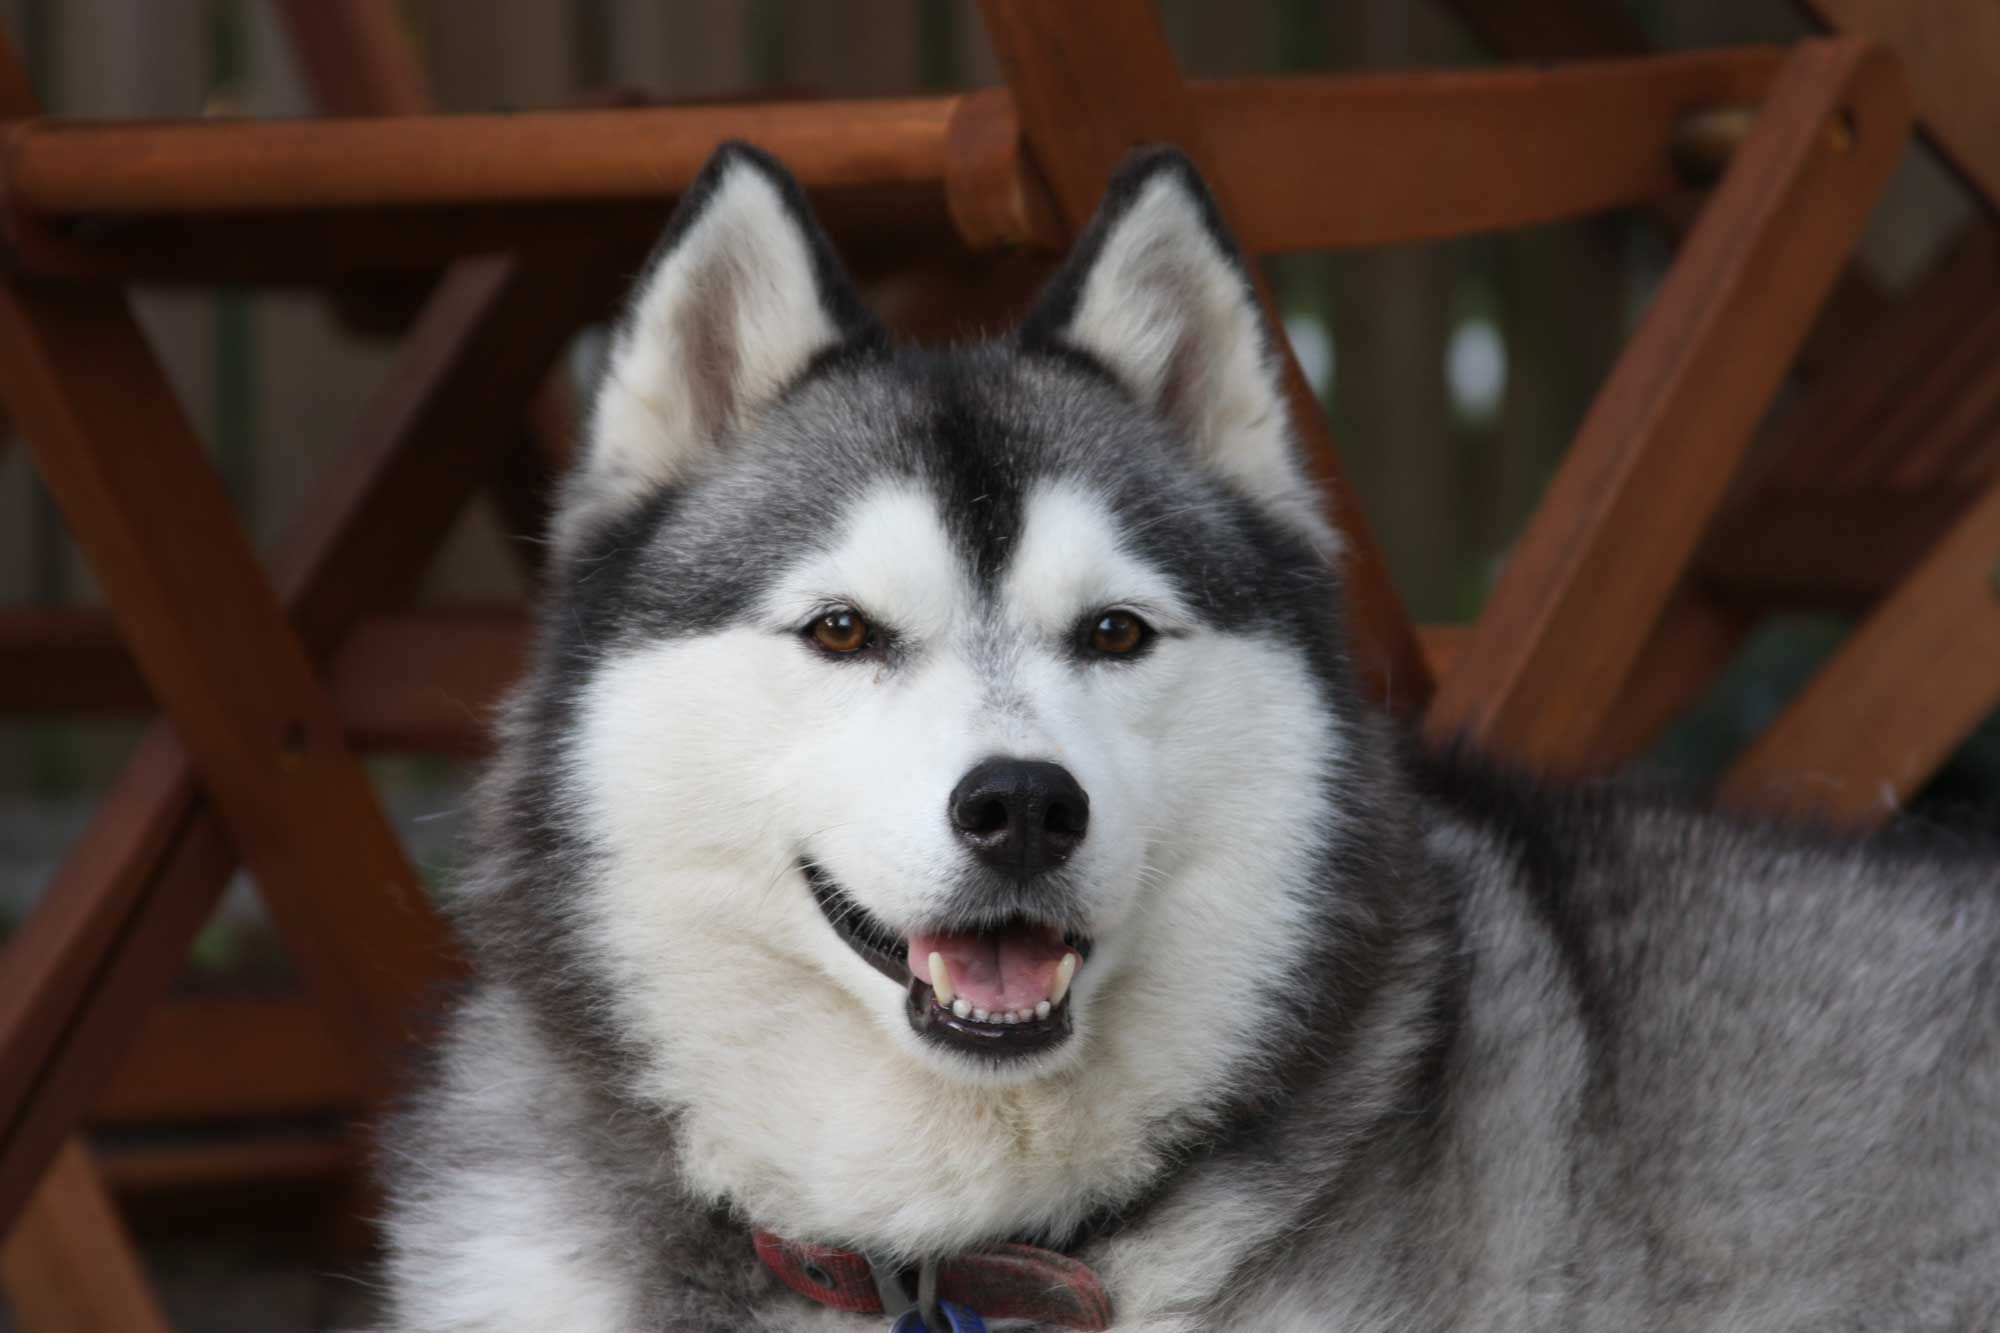husky: (416, 115, 1520, 1272)
